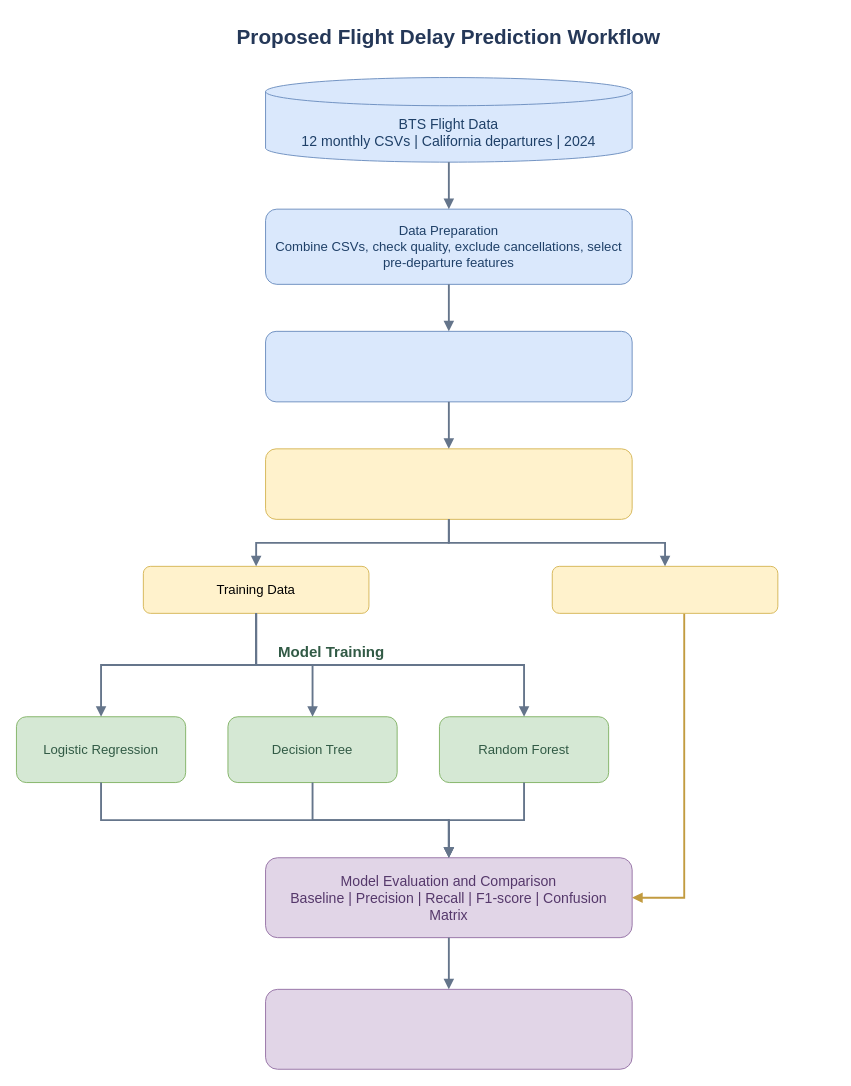
Some shapes in this 851 by 1086 pixel diagram are drawn without their labels. The box of each missing label's shape, as (x1, y1, x2, y2) in pixels:
Exploratory Data Analysis Delay patterns by airport, airline, date and time: (265, 330, 632, 402)
Results and Business Insights: (265, 988, 632, 1069)
Test Data: (551, 565, 778, 613)
Train / Test Split: (265, 448, 632, 519)
